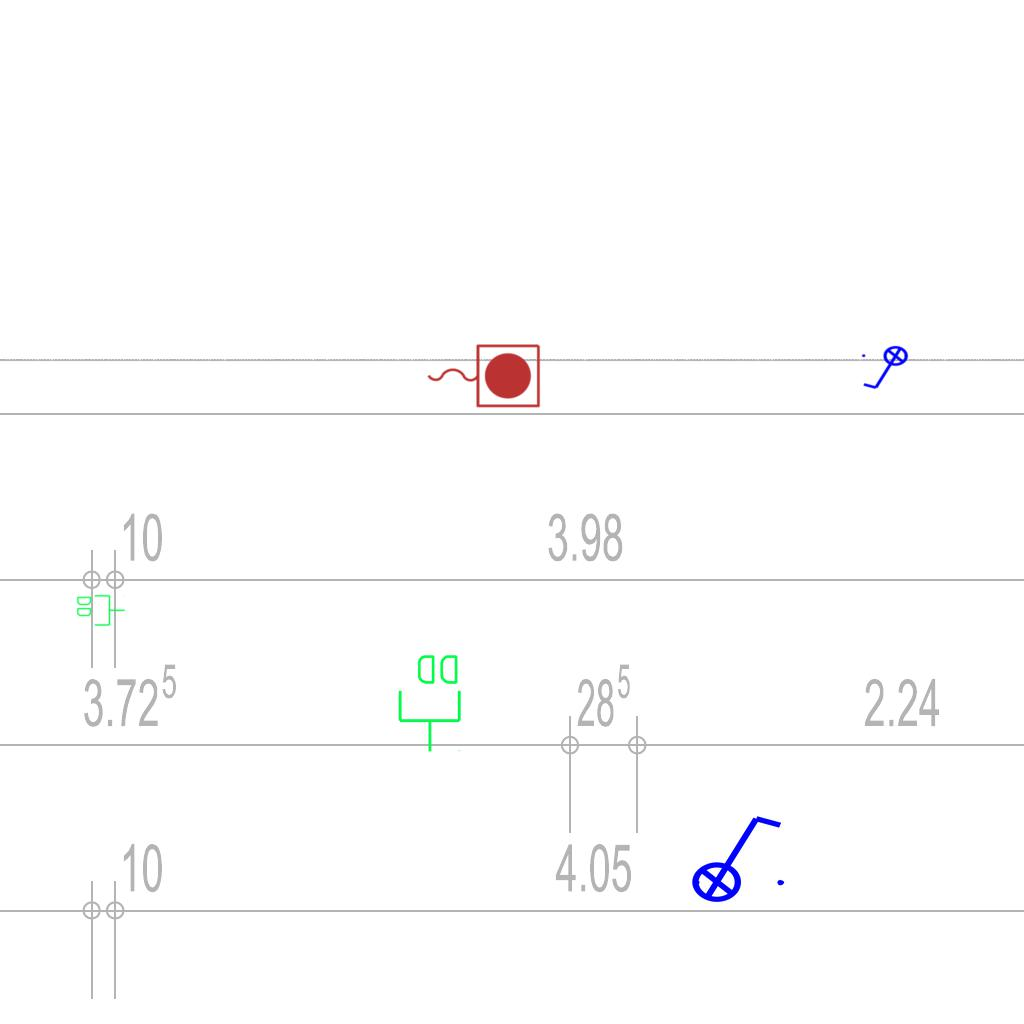Ausschalter_beleuchtet: (678, 808, 790, 904), (859, 345, 915, 393)
Datenanschluss_zweifach: (396, 651, 465, 754), (75, 593, 126, 627)
Zugtaster: (422, 339, 544, 411)
